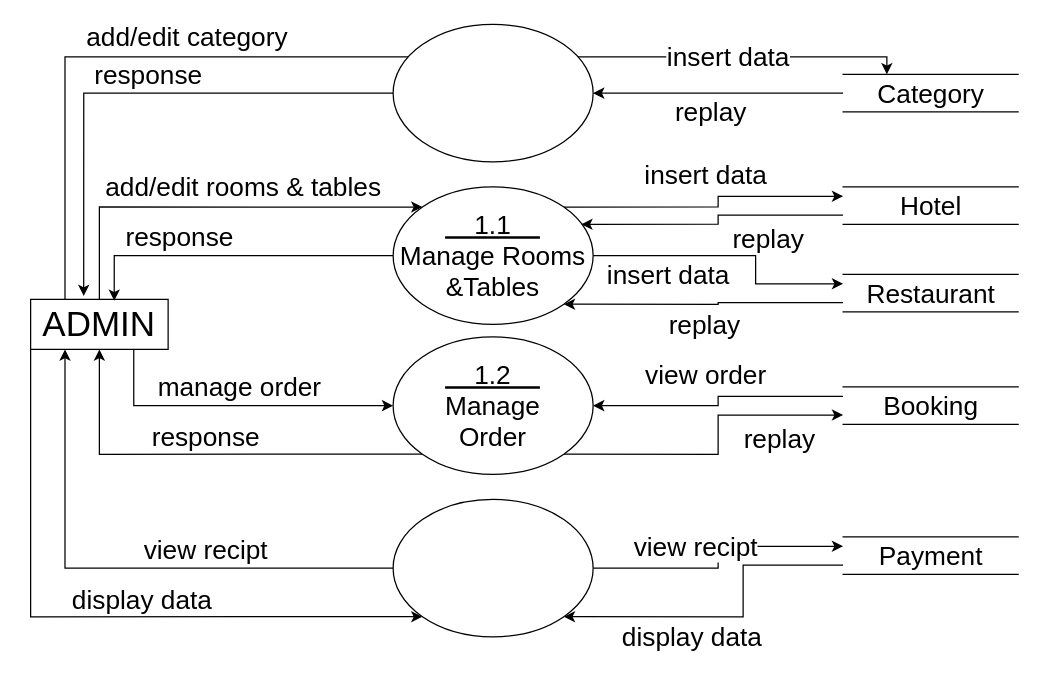
The diagram is 1040 pixels wide and 674 high, and some of its shapes have lost their labels. The shapes that lost their labels are listed below. From the top down, each one's centre as x and y in pixels, then its label:
(492,92): 1.0 Manage Category
(492,567): 1.3 Manage Reports
